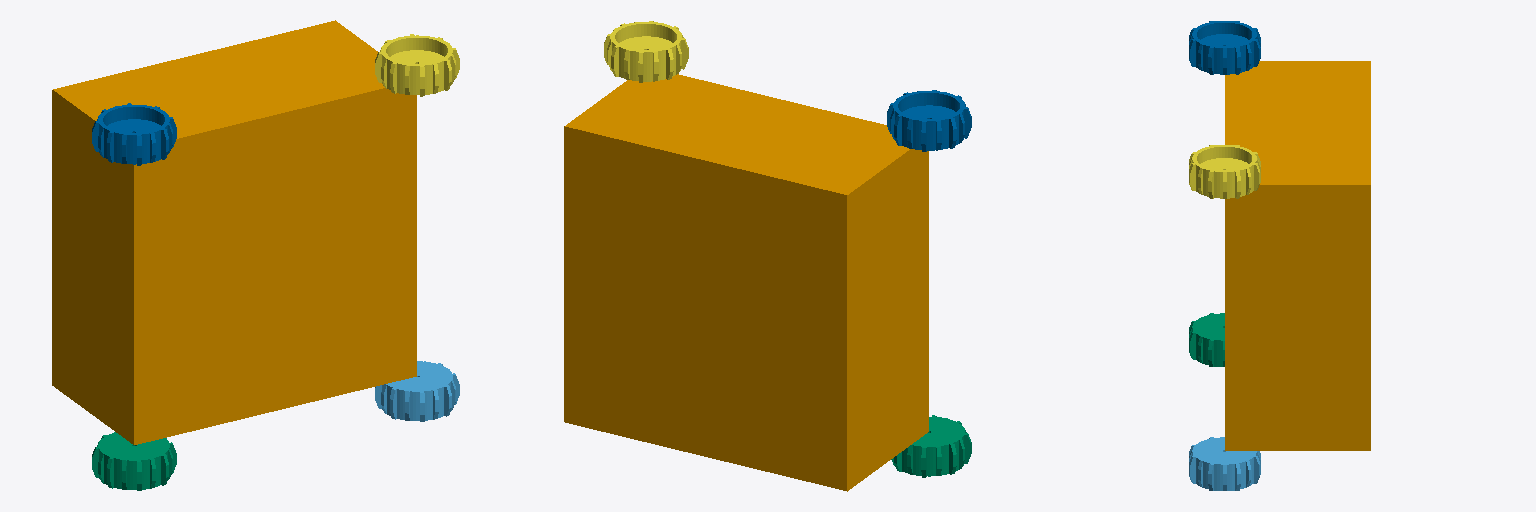
robot.urdf — URDF:
<?xml version="1.0" ?>
<robot name="URDF">

<material name="silver">
  <color rgba="0.700 0.700 0.700 1.000"/>
</material>

<link name="base_link">
  <inertial>
    <origin rpy="0 0 0" xyz="-0.5 0.25000000000000006 -0.5"/>
    <mass value="530.0"/>
    <inertia ixx="55.208333333333314" ixy="1.4210854715202004e-14" ixz="0.0" iyy="88.33333333333331" iyz="1.4210854715202004e-14" izz="55.208333333333314"/>
  </inertial>
  <visual>
    <origin rpy="0 0 0" xyz="0 0 0"/>
    <geometry>
      <mesh filename="meshes/base_link.stl" scale="0.001 0.001 0.001"/>
    </geometry>
    <material name="silver"/>
    <material/>
  </visual>
  <collision>
    <origin rpy="0 0 0" xyz="0 0 0"/>
    <geometry>
      <mesh filename="meshes/base_link.stl" scale="0.001 0.001 0.001"/>
    </geometry>
  </collision>
</link>

<link name="Wheel_2020_v61">
  <inertial>
    <origin rpy="0 0 0" xyz="-2.5272903137094332e-17 1.2636451568547173e-16 -0.03802583860928843"/>
    <mass value="3.051693360749828"/>
    <inertia ixx="0.01329651401605636" ixy="-2.2683201162306266e-32" ixz="2.932748533628609e-18" iyy="0.013296514016055916" iyz="-2.0833754724970597e-17" izz="0.022874433012492104"/>
  </inertial>
  <visual>
    <origin rpy="0 0 0" xyz="-0.0 -0.0 1.0"/>
    <geometry>
      <mesh filename="meshes/Wheel_2020_v61.stl" scale="0.001 0.001 0.001"/>
    </geometry>
    <material name="silver"/>
    <material/>
  </visual>
  <collision>
    <origin rpy="0 0 0" xyz="-0.0 -0.0 1.0"/>
    <geometry>
      <mesh filename="meshes/Wheel_2020_v61.stl" scale="0.001 0.001 0.001"/>
    </geometry>
  </collision>
</link>

<link name="Wheel_2020_v6_21">
  <inertial>
    <origin rpy="0 0 0" xyz="-2.220446049250313e-16 2.484890483942389e-16 -0.03802583860928843"/>
    <mass value="3.051693360749828"/>
    <inertia ixx="0.01329651401605636" ixy="0.0" ixz="8.881784197001252e-16" iyy="0.013296514016053251" iyz="-2.083375472497045e-17" izz="0.02287443301249059"/>
  </inertial>
  <visual>
    <origin rpy="0 0 0" xyz="1.0 -0.0 1.0"/>
    <geometry>
      <mesh filename="meshes/Wheel_2020_v6_21.stl" scale="0.001 0.001 0.001"/>
    </geometry>
    <material name="silver"/>
    <material/>
  </visual>
  <collision>
    <origin rpy="0 0 0" xyz="1.0 -0.0 1.0"/>
    <geometry>
      <mesh filename="meshes/Wheel_2020_v6_21.stl" scale="0.001 0.001 0.001"/>
    </geometry>
  </collision>
</link>

<link name="Wheel_2020_v6_11">
  <inertial>
    <origin rpy="0 0 0" xyz="2.5272903137094347e-17 1.2636451568547173e-16 0.03802583860928854"/>
    <mass value="3.051693360749828"/>
    <inertia ixx="0.013296514016054925" ixy="9.745882316681677e-33" ixz="2.932748533628609e-18" iyy="0.013296514016054821" iyz="2.0833754724970585e-17" izz="0.022874433012492104"/>
  </inertial>
  <visual>
    <origin rpy="0 0 0" xyz="-0.0 -0.0 -0.0"/>
    <geometry>
      <mesh filename="meshes/Wheel_2020_v6_11.stl" scale="0.001 0.001 0.001"/>
    </geometry>
    <material name="silver"/>
    <material/>
  </visual>
  <collision>
    <origin rpy="0 0 0" xyz="-0.0 -0.0 -0.0"/>
    <geometry>
      <mesh filename="meshes/Wheel_2020_v6_11.stl" scale="0.001 0.001 0.001"/>
    </geometry>
  </collision>
</link>

<link name="Wheel_2020_v6_31">
  <inertial>
    <origin rpy="0 0 0" xyz="-2.220446049250313e-16 2.484890483942389e-16 0.03802583860928857"/>
    <mass value="3.051693360749828"/>
    <inertia ixx="0.01329651401605493" ixy="6.902532920683853e-31" ixz="1.942890293094024e-16" iyy="0.013296514016054584" iyz="2.0833754724970585e-17" izz="0.022874433012491924"/>
  </inertial>
  <visual>
    <origin rpy="0 0 0" xyz="1.0 -0.0 -0.0"/>
    <geometry>
      <mesh filename="meshes/Wheel_2020_v6_31.stl" scale="0.001 0.001 0.001"/>
    </geometry>
    <material name="silver"/>
    <material/>
  </visual>
  <collision>
    <origin rpy="0 0 0" xyz="1.0 -0.0 -0.0"/>
    <geometry>
      <mesh filename="meshes/Wheel_2020_v6_31.stl" scale="0.001 0.001 0.001"/>
    </geometry>
  </collision>
</link>

<joint name="Rev15" type="continuous">
  <origin rpy="0 0 0" xyz="0.0 0.0 -1.0"/>
  <parent link="base_link"/>
  <child link="Wheel_2020_v61"/>
  <axis xyz="0.0 0.0 -1.0"/>
</joint>
<transmission name="Rev15_tran">
  <type>transmission_interface/SimpleTransmission</type>
  <joint name="Rev15">
    <hardwareInterface>PositionJointInterface</hardwareInterface>
  </joint>
  <actuator name="Rev15_actr">
    <hardwareInterface>PositionJointInterface</hardwareInterface>
    <mechanicalReduction>1</mechanicalReduction>
  </actuator>
</transmission>

<joint name="Rev16" type="continuous">
  <origin rpy="0 0 0" xyz="-1.0 0.0 -1.0"/>
  <parent link="base_link"/>
  <child link="Wheel_2020_v6_21"/>
  <axis xyz="0.0 0.0 -1.0"/>
</joint>
<transmission name="Rev16_tran">
  <type>transmission_interface/SimpleTransmission</type>
  <joint name="Rev16">
    <hardwareInterface>PositionJointInterface</hardwareInterface>
  </joint>
  <actuator name="Rev16_actr">
    <hardwareInterface>PositionJointInterface</hardwareInterface>
    <mechanicalReduction>1</mechanicalReduction>
  </actuator>
</transmission>

<joint name="Rev17" type="continuous">
  <origin rpy="0 0 0" xyz="0.0 0.0 0.0"/>
  <parent link="base_link"/>
  <child link="Wheel_2020_v6_11"/>
  <axis xyz="0.0 0.0 -1.0"/>
</joint>
<transmission name="Rev17_tran">
  <type>transmission_interface/SimpleTransmission</type>
  <joint name="Rev17">
    <hardwareInterface>PositionJointInterface</hardwareInterface>
  </joint>
  <actuator name="Rev17_actr">
    <hardwareInterface>PositionJointInterface</hardwareInterface>
    <mechanicalReduction>1</mechanicalReduction>
  </actuator>
</transmission>

<joint name="Rev18" type="continuous">
  <origin rpy="0 0 0" xyz="-1.0 0.0 0.0"/>
  <parent link="base_link"/>
  <child link="Wheel_2020_v6_31"/>
  <axis xyz="0.0 0.0 -1.0"/>
</joint>
<transmission name="Rev18_tran">
  <type>transmission_interface/SimpleTransmission</type>
  <joint name="Rev18">
    <hardwareInterface>PositionJointInterface</hardwareInterface>
  </joint>
  <actuator name="Rev18_actr">
    <hardwareInterface>PositionJointInterface</hardwareInterface>
    <mechanicalReduction>1</mechanicalReduction>
  </actuator>
</transmission>

</robot>

--- Render facts (derived) ---
Views: 3 orthographic renders of the robot side by side, from view 1: azimuth 30°, elevation 25°; view 2: azimuth 150°, elevation 25°; view 3: azimuth 270°, elevation 25°.
Model URDF with 5 links and 4 joints (4 continuous), rooted at base_link, posed every joint at zero.
Links seen in each view (by area): view 1: base_link, Wheel_2020_v6_11, Wheel_2020_v6_31, Wheel_2020_v6_21, Wheel_2020_v61; view 2: base_link, Wheel_2020_v6_11, Wheel_2020_v6_31, Wheel_2020_v6_21; view 3: base_link, Wheel_2020_v6_11, Wheel_2020_v6_31, Wheel_2020_v61, Wheel_2020_v6_21.
Boxes of the visible links, x1,y1,x2,y2 form: base_link: (52, 20, 416, 444); Wheel_2020_v6_11: (375, 34, 459, 96); Wheel_2020_v6_31: (92, 103, 176, 165); Wheel_2020_v6_21: (92, 432, 176, 490); Wheel_2020_v61: (375, 361, 459, 421); base_link: (564, 74, 928, 491); Wheel_2020_v6_11: (604, 21, 688, 82); Wheel_2020_v6_31: (887, 90, 971, 151); Wheel_2020_v6_21: (891, 415, 971, 477); base_link: (1225, 61, 1370, 450); Wheel_2020_v6_11: (1189, 145, 1260, 198); Wheel_2020_v6_31: (1189, 21, 1260, 74); Wheel_2020_v61: (1189, 437, 1260, 490); Wheel_2020_v6_21: (1189, 313, 1224, 366).
Size in the robot's own frame: 1.25 by 0.6226 by 1.2 metres.
5 mesh visuals loaded from 5 distinct referenced files (5 binary STL).